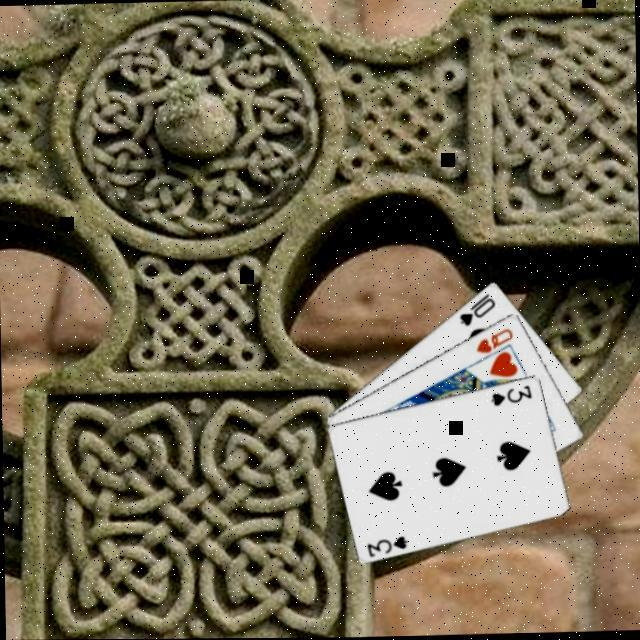10S: (454, 289, 497, 328)
3S: (487, 380, 534, 408), (363, 531, 410, 558)
QH: (471, 324, 515, 356)
